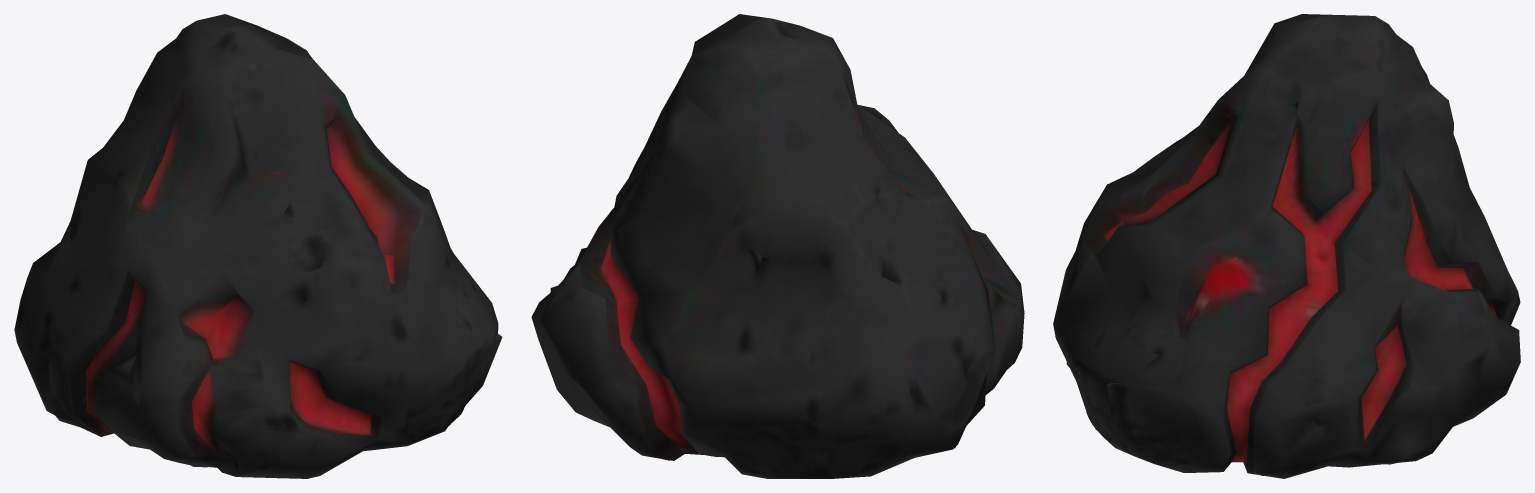
File: lg-volcanic-rock.glb
3 renders of one model, left to right at view 1: azimuth 30°, elevation 25°; view 2: azimuth 150°, elevation 25°; view 3: azimuth 270°, elevation 25°, orthographic. The views are drawn at different scales.
Parts seen in each view (by area): view 1: geometry_0; view 2: geometry_0; view 3: geometry_0.
Part boxes in pixels (box(x1,y1,x2,y2)): geometry_0: box(14, 14, 502, 478); geometry_0: box(531, 14, 1024, 478); geometry_0: box(1053, 14, 1520, 478).
Bounding box in the file's own units: 1 × 0.9024 × 0.9927.
1 material, 1 textured.
